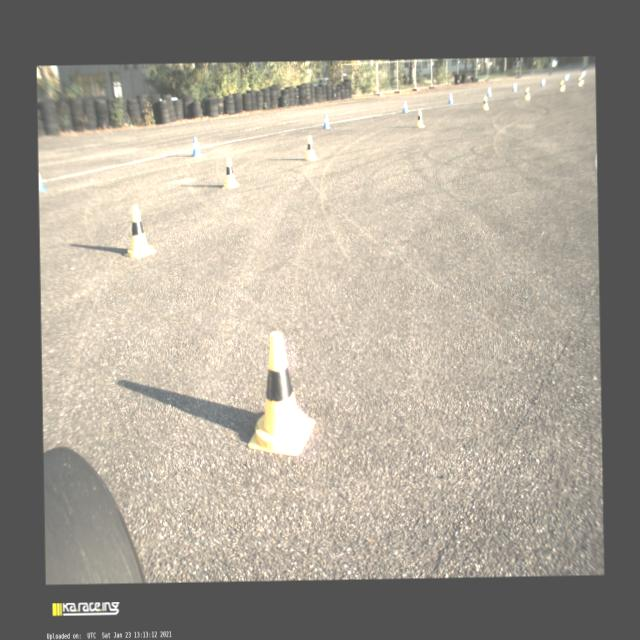blue_cone: (191, 136, 201, 156), (38, 172, 47, 192), (322, 114, 330, 128), (402, 100, 408, 112), (486, 86, 491, 96), (512, 82, 517, 91), (448, 92, 452, 103), (541, 78, 545, 86), (564, 74, 568, 81)
yellow_cone: (247, 330, 316, 456), (123, 204, 156, 258), (221, 156, 239, 188), (304, 134, 318, 160), (416, 109, 424, 127), (482, 96, 488, 110), (524, 87, 530, 100), (560, 80, 565, 90), (578, 76, 582, 85)
